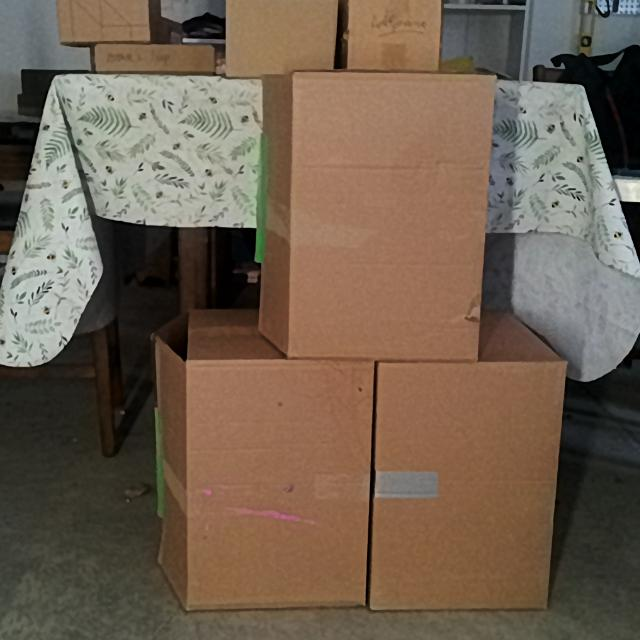box: (290, 74, 491, 362), (369, 362, 557, 610), (186, 361, 371, 609), (227, 0, 338, 76), (343, 0, 443, 72), (54, 0, 151, 41), (92, 45, 217, 74)
